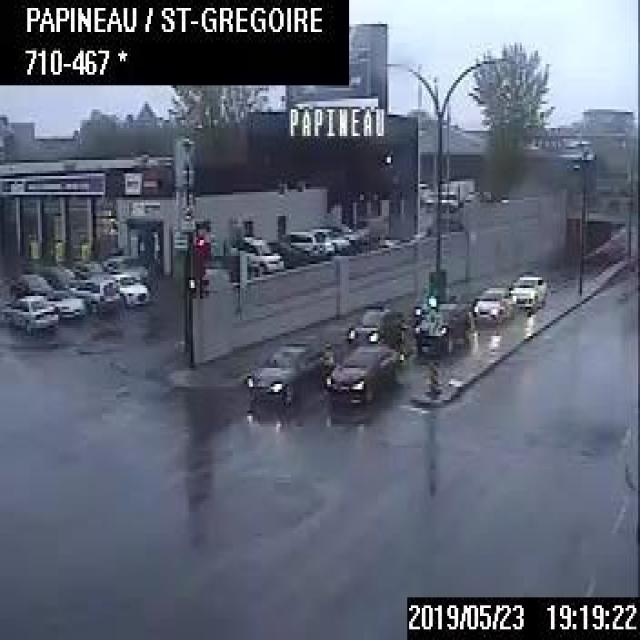vehicle: (242, 326, 336, 405), (322, 343, 409, 416), (412, 298, 471, 350), (344, 300, 406, 348), (0, 293, 56, 333), (232, 232, 284, 275), (472, 280, 514, 328), (69, 274, 118, 312), (109, 270, 152, 309), (281, 227, 331, 258), (508, 273, 547, 311), (432, 173, 474, 207), (102, 251, 149, 279), (42, 286, 82, 318), (7, 269, 53, 295), (265, 238, 306, 264), (41, 264, 77, 286), (71, 259, 104, 279)
